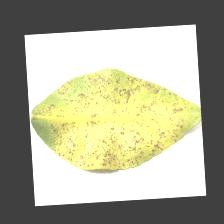canker: (66, 77, 154, 159)
